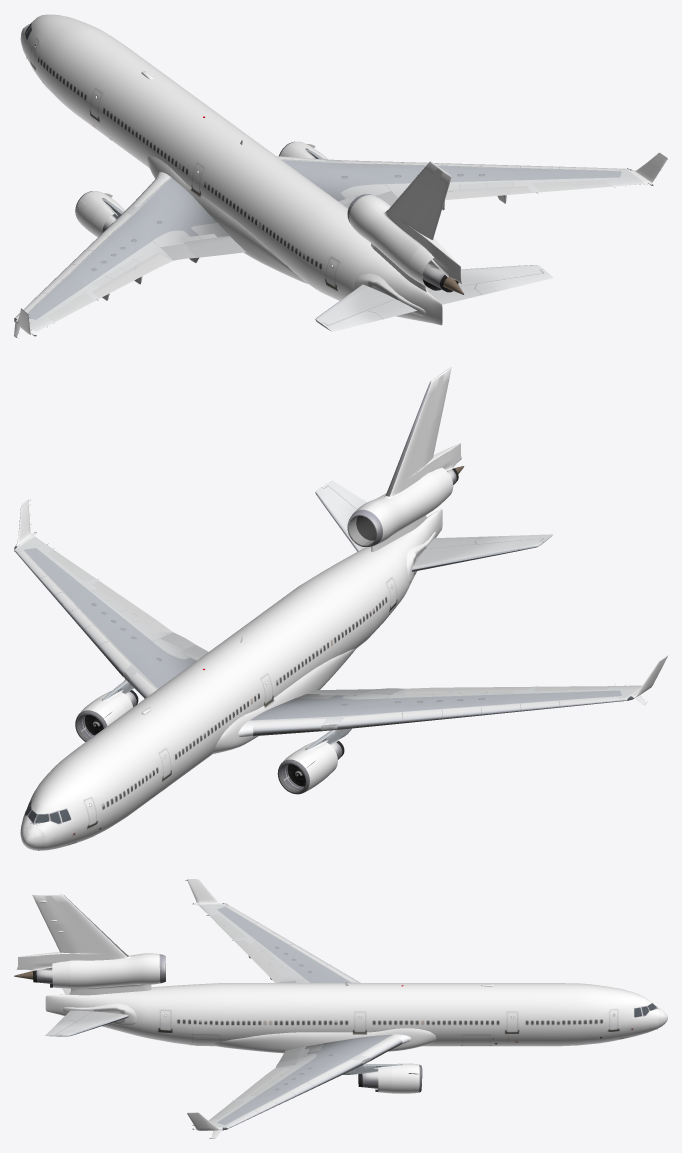
The picture shows the model from 3 angles, top to bottom: view 1: azimuth 30°, elevation 25°; view 2: azimuth 150°, elevation 25°; view 3: azimuth 270°, elevation 25°; orthographic projection. The views are drawn at different scales.
Parts seen in each view (by area): view 1: fuselage, wing1.grey.part1, wing1.grey.part2, wing2.grey.part1, wing2.grey.part2, HorzStab1, engines, HorzStab2, wing2.grey.part3, flap.1, wing.1, wing1.grey.part3 (+17 smaller); view 2: fuselage, wing2.grey.part2, wing1.grey.part1, HorzStab1, wing1.grey.part2, engines, slat.1.part2, wing2.grey.part1, slat.4.part2, slat.2, HorzStab2, wing2.grey.part3 (+5 smaller); view 3: fuselage, wing1.grey.part2, wing2.grey.part1, wing2.grey.part2, engines, HorzStab2, slat.4.part2, flap.1, wing1.grey.part3, engines.chrome, center.reverser, wing.1.part3 (+8 smaller).
Boxes of the visible parts, <box> form: fuselage: <box>20,14,461,325</box>; wing1.grey.part1: <box>128,178,217,240</box>; wing1.grey.part2: <box>70,220,152,285</box>; wing2.grey.part1: <box>282,160,383,201</box>; wing2.grey.part2: <box>360,164,519,183</box>; HorzStab1: <box>315,284,395,325</box>; engines: <box>75,141,323,236</box>; HorzStab2: <box>426,265,543,291</box>; wing2.grey.part3: <box>505,168,621,180</box>; flap.1: <box>92,253,172,298</box>; wing.1: <box>124,177,229,247</box>; wing1.grey.part3: <box>28,274,85,319</box>; fuselage: <box>20,376,461,850</box>; wing2.grey.part2: <box>70,588,152,658</box>; wing1.grey.part1: <box>250,695,383,719</box>; HorzStab1: <box>412,538,543,571</box>; wing1.grey.part2: <box>360,694,519,714</box>; engines: <box>78,695,329,792</box>; slat.1.part2: <box>350,705,503,728</box>; wing2.grey.part1: <box>128,642,196,688</box>; slat.4.part2: <box>63,599,126,671</box>; slat.2: <box>251,718,326,736</box>; HorzStab2: <box>315,486,365,551</box>; wing2.grey.part3: <box>24,548,85,597</box>; fuselage: <box>16,894,659,1053</box>; wing1.grey.part2: <box>255,938,342,979</box>; wing2.grey.part1: <box>306,1034,391,1063</box>; wing2.grey.part2: <box>255,1062,342,1097</box>; engines: <box>392,1062,419,1093</box>; HorzStab2: <box>55,1011,128,1036</box>; slat.4.part2: <box>279,1063,357,1100</box>; flap.1: <box>235,940,287,982</box>; wing1.grey.part3: <box>217,907,277,938</box>; engines.chrome: <box>36,967,378,1088</box>; center.reverser: <box>50,961,70,988</box>; wing.1.part3: <box>199,904,278,941</box>.
Size of the model in its own units: 52.1 by 16.69 by 61.61.
Materials: 13 (8 with a texture image).
